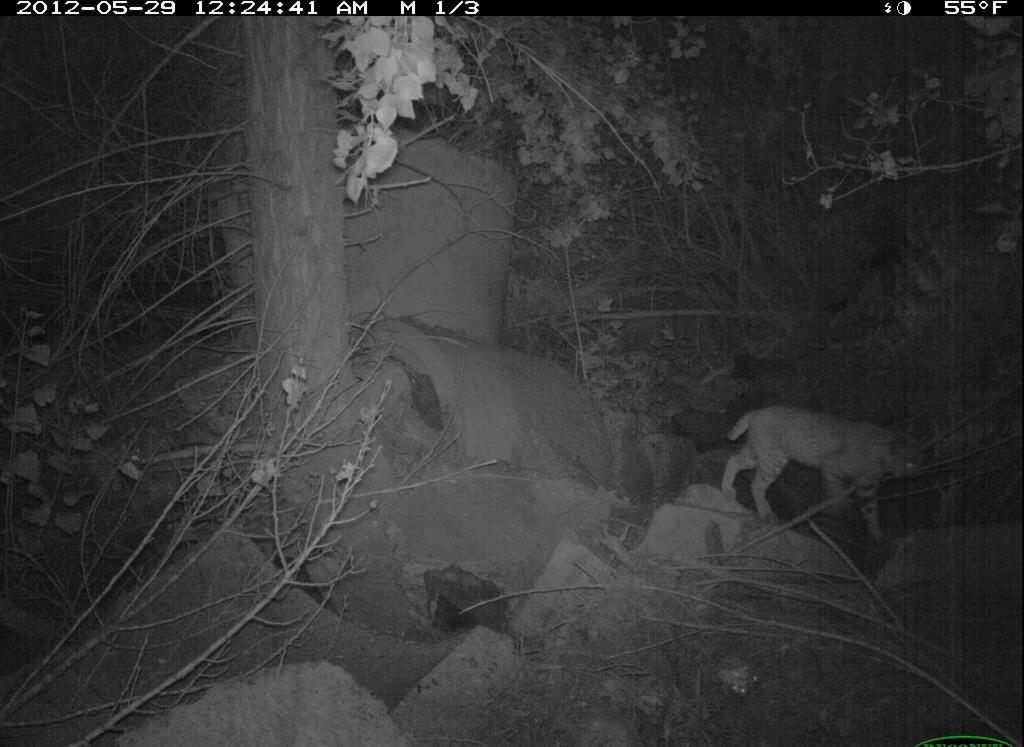bobcat: (712, 399, 930, 556)
